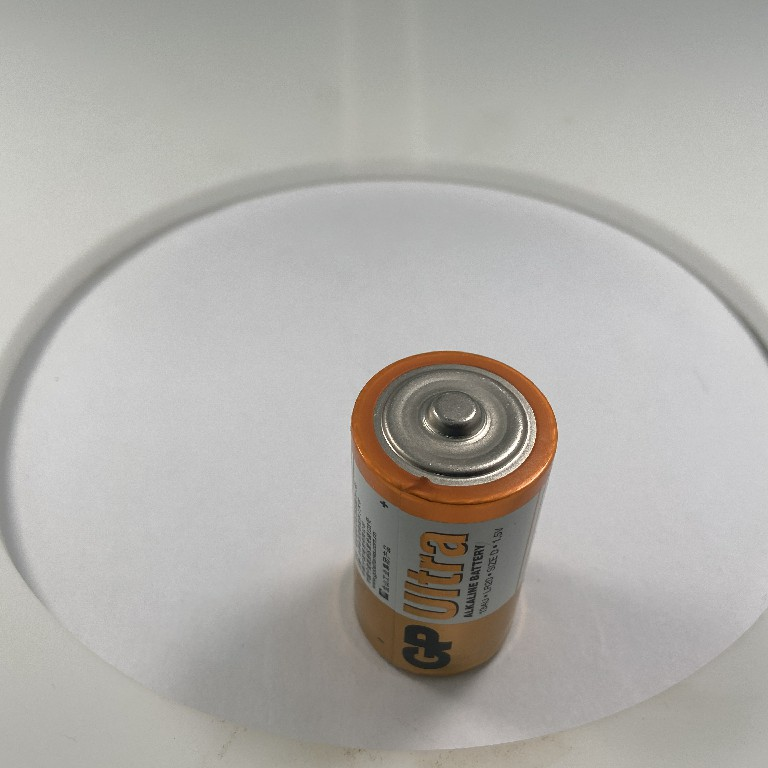charge: (341, 339, 565, 688)
